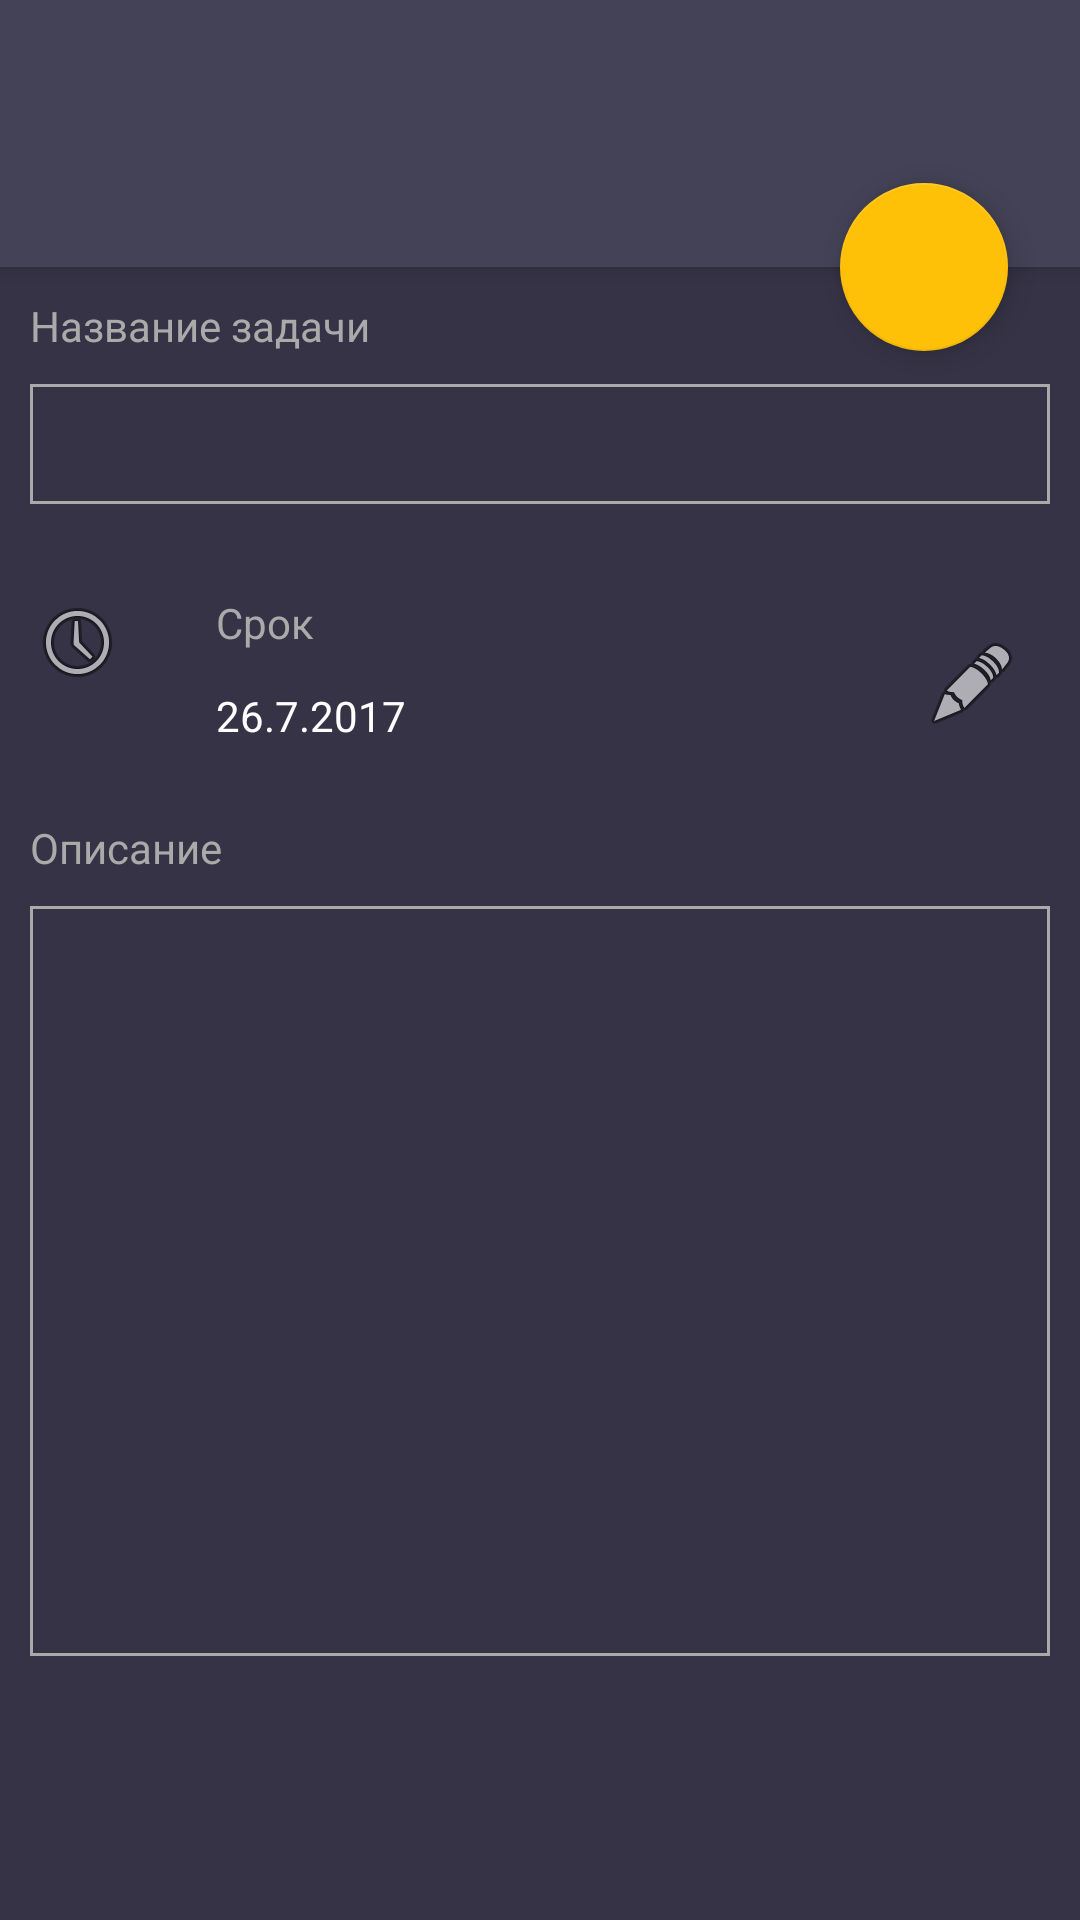

Point at icon controls on the screen. Image size 1080×1920, points as (x=x, y=y).
edit: (x=972, y=683)
recent history: (x=77, y=642)
